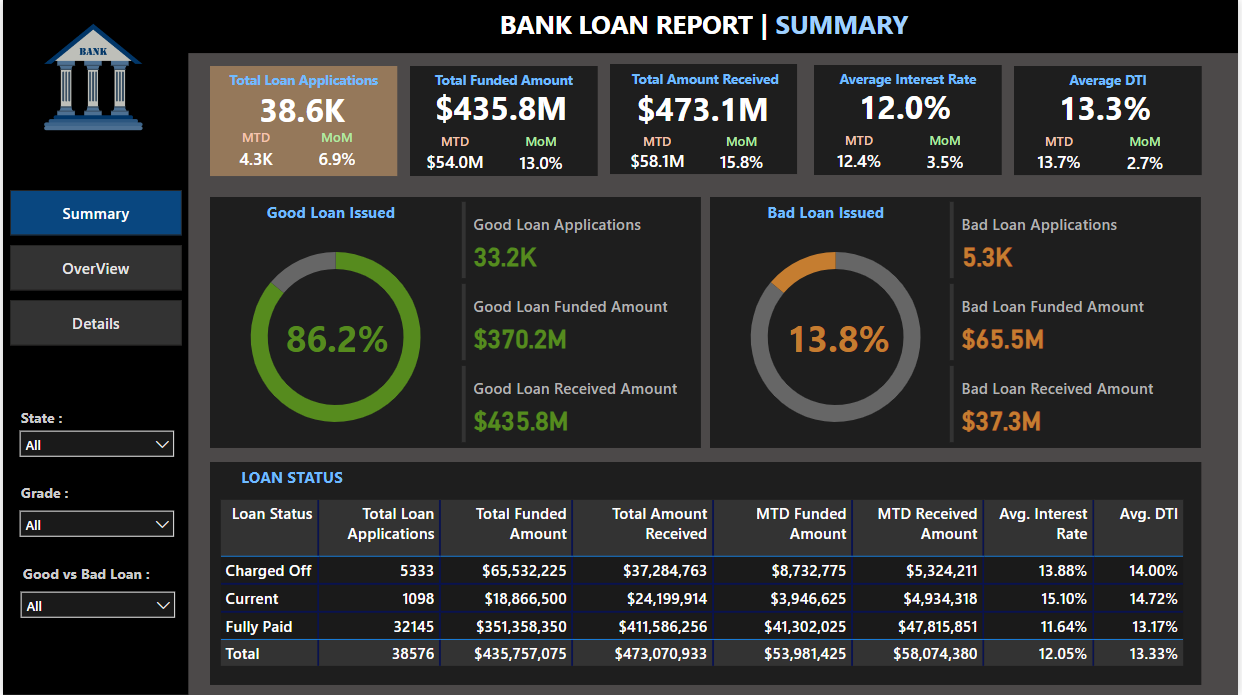

This screenshot's page, from the dashboard's own definition file:
{"tool":"powerbi","page":{"name":"Summary","canvas":[1280,720],"ordinal":0},"visuals":[{"type":"shape","box":[629.2,66.4,193.8,114.2],"z":0,"group":"g3"},{"type":"shape","box":[839.7,67.5,194.5,114],"z":0,"group":"g4"},{"type":"shape","box":[214.3,68.6,194.3,114.3],"z":0,"group":"g1"},{"type":"shape","box":[421.4,68.6,194.5,114],"z":0,"group":"g2"},{"type":"shape","box":[1047.1,68.6,194.5,113.1],"z":0,"group":"g5"},{"type":"shape","box":[214.3,204.3,508.6,260],"z":0},{"type":"card","fields":{"Values":["table_measures.avg_interest_rate"]},"box":[851.5,82.1,165.9,58.4],"z":1000,"group":"g4"},{"type":"card","fields":{"Values":["table_measures.avg_DTI"]},"box":[1058.9,83.1,165.9,57.9],"z":1000,"group":"g5"},{"type":"card","fields":{"Values":["table_measures.total_loan_appl"]},"box":[247.2,83.2,124.3,61.3],"z":1000,"group":"g1"},{"type":"card","fields":{"Values":["table_measures.total_funded_amt"]},"box":[433.2,83.2,165.9,58.4],"z":1000,"group":"g2"},{"type":"card","fields":{"Values":["table_measures.total_received_amt"]},"box":[643.2,85.3,163.1,55.8],"z":1000,"group":"g3"},{"type":"donutChart","fields":{"Category":["financial_loan.Good vs Band Loan"],"Y":["table_measures.total_loan_appl"]},"box":[220,234.3,250,230],"z":1000},{"type":"shape","box":[0,0,1280,55],"z":2000},{"type":"textbox","box":[632.2,67,191,41.6],"z":2000,"group":"g3"},{"type":"textbox","box":[839.7,67.5,194.5,38.9],"z":2000,"group":"g4"},{"type":"textbox","box":[214.3,68.6,194.3,39],"z":2000,"group":"g1"},{"type":"textbox","box":[421.4,68.6,194.5,38.9],"z":2000,"group":"g2"},{"type":"textbox","box":[1047.1,68.6,194.5,38.6],"z":2000,"group":"g5"},{"type":"shape","box":[0,55.1,192,664.8],"z":3000},{"type":"card","title":"MTD","fields":{"Values":["table_measures.MTD_loan_appl"]},"box":[235.7,132.7,51.4,50.2],"z":3000,"group":"g1"},{"type":"card","title":"MTD","fields":{"Values":["table_measures.MTD_interest_rate"]},"box":[851.5,136.3,70.1,48.6],"z":3000,"group":"g4"},{"type":"card","title":"MTD","fields":{"Values":["table_measures.MTD_avg_DTI"]},"box":[1058.9,136.9,70.1,48.3],"z":3000,"group":"g5"},{"type":"card","title":"MTD","fields":{"Values":["table_measures.MTD_received_amt"]},"box":[643.2,137.1,68.9,46.5],"z":3000,"group":"g3"},{"type":"card","title":"MTD","fields":{"Values":["table_measures.MTD_funded_amt"]},"box":[433.2,137.4,70.1,48.6],"z":3000,"group":"g2"},{"type":"card","title":"MoM","fields":{"Values":["table_measures.MOM_loan_appl"]},"box":[320,132.7,51.4,50.2],"z":4000,"group":"g1"},{"type":"card","title":"MoM","fields":{"Values":["table_measures.MOM_interest_rate"]},"box":[946.6,136.1,57.8,49.7],"z":4000,"group":"g4"},{"type":"card","title":"MoM","fields":{"Values":["table_measures.MOM_avg_DTI"]},"box":[1154,136.7,57.8,49.3],"z":4000,"group":"g5"},{"type":"card","title":"MoM","fields":{"Values":["table_measures.MOM_received_amt"]},"box":[736.7,136.9,56.8,47.5],"z":4000,"group":"g3"},{"type":"card","title":"MoM","fields":{"Values":["table_measures.MOM_funded_amt"]},"box":[528.3,137.2,57.8,49.7],"z":4000,"group":"g2"},{"type":"textbox","box":[13.8,417,119.7,38.5],"z":4000},{"type":"textbox","box":[235.7,204.3,207.1,34.3],"z":5000},{"type":"card","fields":{"Values":["table_measures.good_loan_per"]},"box":[287.1,321.4,118.6,57.1],"z":6000},{"type":"textbox","box":[509.2,1.4,447.3,49.5],"z":7000},{"type":"group","id":"g1","title":"Group 1","box":[214.3,68.6,194.3,114.3],"z":8000},{"type":"group","id":"g2","title":"Group 1","box":[421.4,68.6,194.3,118],"z":9000},{"type":"group","id":"g3","title":"Group 1","box":[629.2,66.4,194,118],"z":10000},{"type":"group","id":"g4","title":"Group 1","box":[839.7,67.5,194.5,118.2],"z":11000},{"type":"group","id":"g5","title":"Group 1","box":[1047.1,68.6,194.3,117.1],"z":12000},{"type":"shape","box":[732.9,204.3,508.6,260],"z":13000},{"type":"cardVisual","fields":{"Data":["table_measures.good_loan_appl","table_measures.good_loan_funded_amt","table_measures.good_loan_received_amt"]},"box":[470,204.3,252.9,260],"z":14000},{"type":"donutChart","fields":{"Category":["financial_loan.Good vs Band Loan"],"Y":["table_measures.total_loan_appl"]},"box":[737.1,234.3,250,230],"z":15000},{"type":"card","fields":{"Values":["table_measures.bad_loan_per"]},"box":[805.7,321.4,118.6,57.1],"z":16000},{"type":"textbox","box":[748.6,204.3,207.1,34.3],"z":17000},{"type":"cardVisual","fields":{"Data":["table_measures.bad_loan_appl","table_measures.bad_loan_funded_amt","table_measures.bad_loan_received_amt"]},"box":[975.7,204.3,252.9,260],"z":18000},{"type":"shape","box":[214.3,478.6,1027.1,231.4],"z":19000},{"type":"tableEx","fields":{"Values":["financial_loan.loan_status","table_measures.total_loan_appl","table_measures.total_funded_amt","table_measures.total_received_amt","table_measures.MTD_funded_amt","table_measures.MTD_received_amt","table_measures.avg_interest_rate","table_measures.avg_DTI"]},"box":[220,512.9,1008.6,185.7],"z":20000},{"type":"textbox","box":[214.3,478.6,170,34.3],"z":21000},{"type":"slicer","fields":{"Values":["financial_loan.address_state"]},"box":[6.9,436.3,180.3,50.9],"z":22000},{"type":"slicer","fields":{"Values":["financial_loan.grade"]},"box":[6.9,518.9,180.3,50.9],"z":23000},{"type":"textbox","box":[13.8,495.5,119.7,38.5],"z":24000},{"type":"pageNavigator","box":[6.9,196.8,178.9,163.8],"z":25000},{"type":"image","box":[0,1.4,187.2,156.9],"z":26000},{"type":"slicer","fields":{"Values":["financial_loan.Good vs Band Loan"]},"box":[8.3,602.8,180.3,50.9],"z":27000},{"type":"textbox","box":[15.1,579.4,163.8,38.5],"z":28000}]}

Visuals, with their boxes in screenshot pixels (x1, y1, x2, y2), scaled from the page's 1280x720 canvas onto the 1242x695 screenshot:
shape: locate(611, 64, 799, 174)
shape: locate(815, 65, 1003, 175)
shape: locate(208, 66, 396, 177)
shape: locate(409, 66, 598, 176)
shape: locate(1016, 66, 1205, 175)
shape: locate(208, 197, 701, 448)
card - table_measures.avg_interest_rate: locate(826, 79, 987, 136)
card - table_measures.avg_DTI: locate(1027, 80, 1188, 136)
card - table_measures.total_loan_appl: locate(240, 80, 360, 139)
card - table_measures.total_funded_amt: locate(420, 80, 581, 137)
card - table_measures.total_received_amt: locate(624, 82, 782, 136)
donutChart - financial_loan.Good vs Band Loan x table_measures.total_loan_appl: locate(213, 226, 456, 448)
shape: locate(0, 0, 1241, 53)
textbox: locate(613, 65, 799, 105)
textbox: locate(815, 65, 1003, 103)
textbox: locate(208, 66, 396, 104)
textbox: locate(409, 66, 598, 104)
textbox: locate(1016, 66, 1205, 103)
shape: locate(0, 53, 186, 694)
"MTD" card: locate(229, 128, 279, 177)
"MTD" card: locate(826, 132, 894, 178)
"MTD" card: locate(1027, 132, 1095, 179)
"MTD" card: locate(624, 132, 691, 177)
"MTD" card: locate(420, 133, 488, 180)
"MoM" card: locate(310, 128, 360, 177)
"MoM" card: locate(918, 131, 975, 179)
"MoM" card: locate(1120, 132, 1176, 180)
"MoM" card: locate(715, 132, 770, 178)
"MoM" card: locate(513, 132, 569, 180)
textbox: locate(13, 403, 130, 440)
textbox: locate(229, 197, 430, 230)
card - table_measures.good_loan_per: locate(279, 310, 394, 365)
textbox: locate(494, 1, 928, 49)
"Group 1" group: locate(208, 66, 396, 177)
"Group 1" group: locate(409, 66, 597, 180)
"Group 1" group: locate(611, 64, 799, 178)
"Group 1" group: locate(815, 65, 1003, 179)
"Group 1" group: locate(1016, 66, 1205, 179)
shape: locate(711, 197, 1205, 448)
cardVisual - table_measures.good_loan_appl x table_measures.good_loan_funded_amt: locate(456, 197, 701, 448)
donutChart - financial_loan.Good vs Band Loan x table_measures.total_loan_appl: locate(715, 226, 958, 448)
card - table_measures.bad_loan_per: locate(782, 310, 897, 365)
textbox: locate(726, 197, 927, 230)
cardVisual - table_measures.bad_loan_appl x table_measures.bad_loan_funded_amt: locate(947, 197, 1192, 448)
shape: locate(208, 462, 1205, 685)
tableEx - financial_loan.loan_status x table_measures.total_loan_appl: locate(213, 495, 1192, 674)
textbox: locate(208, 462, 373, 495)
slicer - financial_loan.address_state: locate(7, 421, 182, 470)
slicer - financial_loan.grade: locate(7, 501, 182, 550)
textbox: locate(13, 478, 130, 515)
pageNavigator: locate(7, 190, 180, 348)
image: locate(0, 1, 182, 153)
slicer - financial_loan.Good vs Band Loan: locate(8, 582, 183, 631)
textbox: locate(15, 559, 174, 596)
